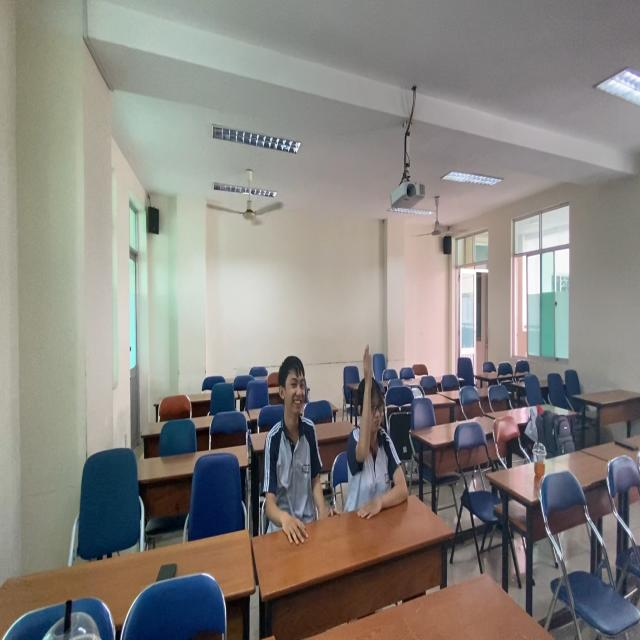raise_hand: (347, 337, 411, 531)
